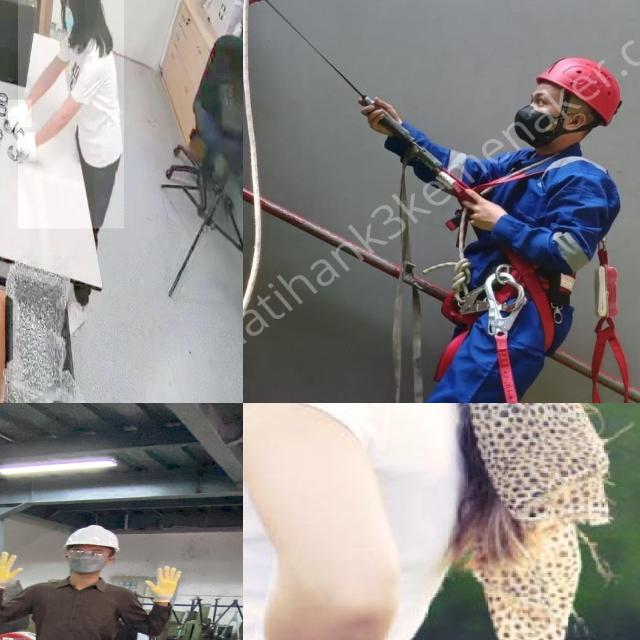Harness: (441, 155, 579, 356)
face_mask: (66, 548, 111, 574), (63, 0, 84, 45)
glasses: (63, 546, 114, 560)
hand_glove: (143, 564, 189, 598), (0, 550, 25, 584), (8, 100, 32, 128), (17, 132, 37, 162)
head_helmet: (60, 524, 122, 550)
person: (243, 403, 536, 640), (17, 0, 124, 229), (0, 524, 187, 640)
